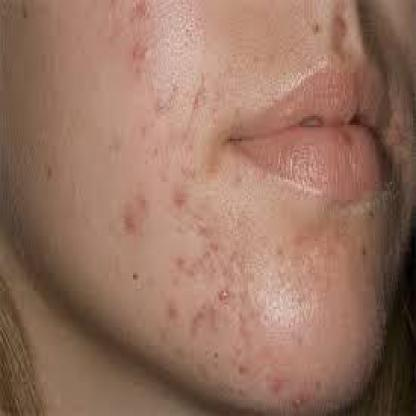darkspot: (120, 3, 226, 344), (235, 325, 312, 407), (28, 130, 64, 193), (354, 207, 381, 268)
